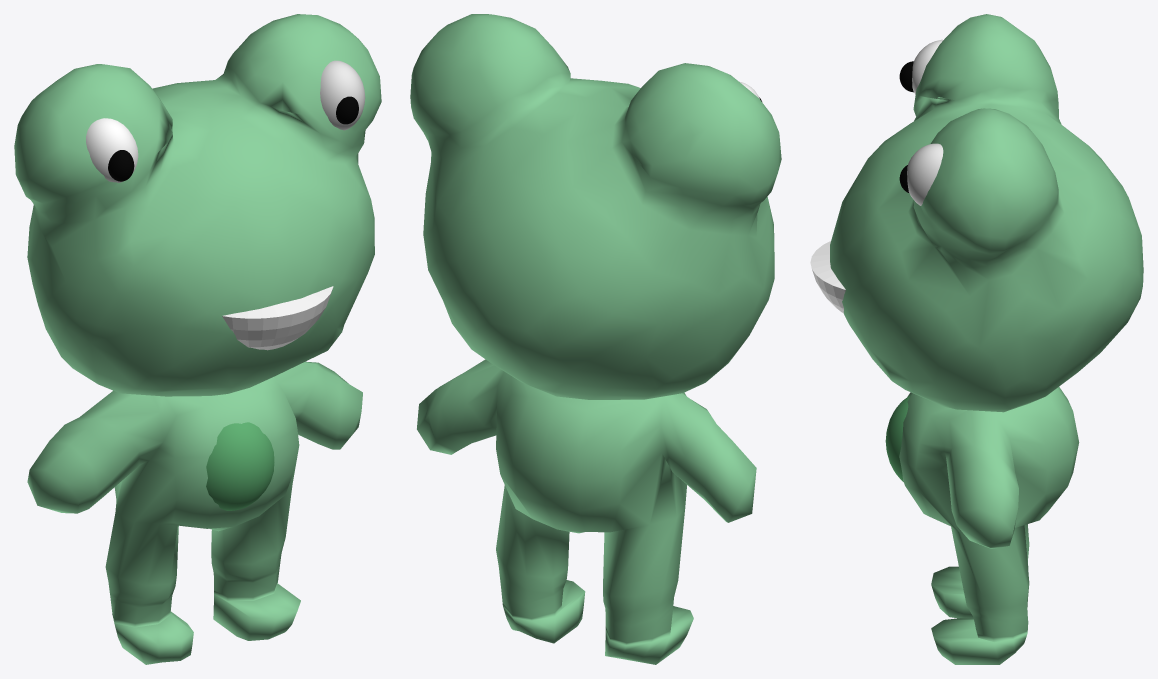
File: Frog.gltf
3 renders of one model, left to right at view 1: azimuth 30°, elevation 25°; view 2: azimuth 150°, elevation 25°; view 3: azimuth 270°, elevation 25°, orthographic. The views are drawn at different scales.
Parts seen in each view (by area): view 1: Head, Body, Sphere, Vert, Sphere.001, Sphere.002, Sphere.003; view 2: Head, Body; view 3: Head, Body, Sphere.001, Vert, Sphere, Sphere.002.
Boxes of the visible parts, bbox=[...] form: Head: bbox=[14, 14, 381, 396]; Body: bbox=[27, 361, 362, 664]; Sphere: bbox=[206, 422, 274, 510]; Vert: bbox=[222, 286, 333, 350]; Sphere.001: bbox=[320, 60, 365, 130]; Sphere.002: bbox=[86, 118, 138, 182]; Sphere.003: bbox=[108, 150, 134, 181]; Head: bbox=[410, 14, 781, 399]; Body: bbox=[417, 359, 756, 664]; Head: bbox=[830, 14, 1143, 412]; Body: bbox=[899, 387, 1079, 664]; Sphere.001: bbox=[907, 143, 943, 205]; Vert: bbox=[810, 241, 845, 313]; Sphere: bbox=[885, 395, 910, 481]; Sphere.002: bbox=[912, 39, 943, 94].
Size of the model in its own units: 2.36 by 3.81 by 2.04.
